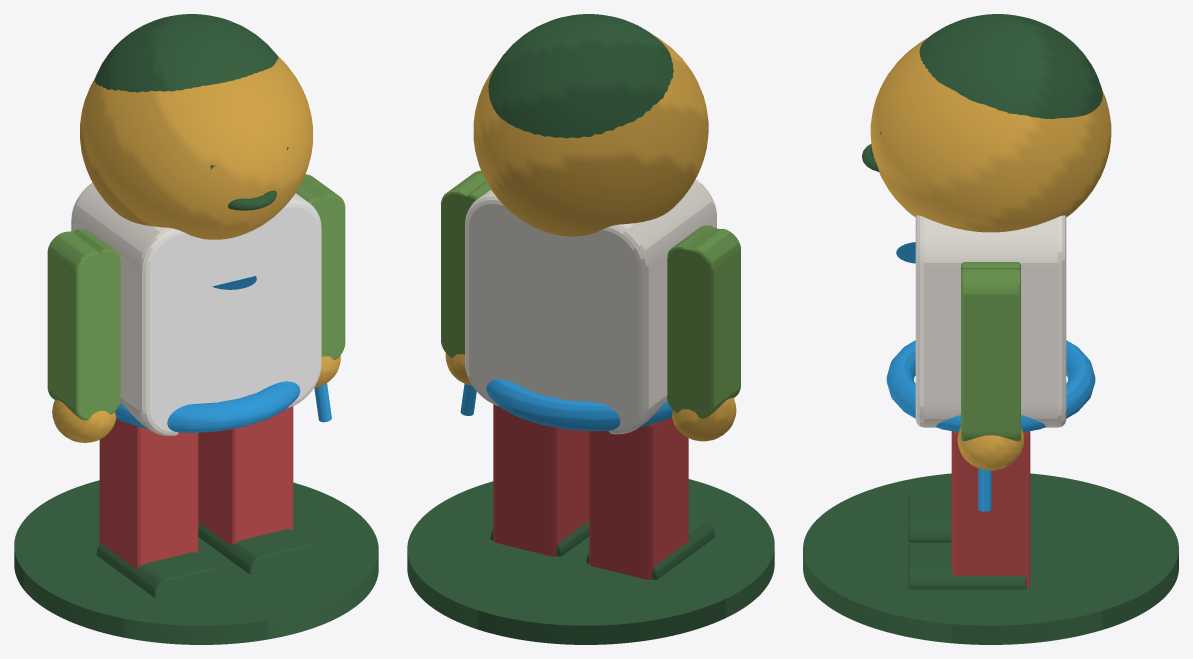
The model's file is 1331_中国古代寓言_欧阳修.glb.
3 renders of one model, left to right at view 1: azimuth 30°, elevation 25°; view 2: azimuth 150°, elevation 25°; view 3: azimuth 270°, elevation 25°, orthographic.
Visible parts, largest first — view 1: card_1331; view 2: card_1331; view 3: card_1331.
Boxes of the visible parts, <box> form: card_1331: <box>14,14,378,644</box>; card_1331: <box>407,14,774,644</box>; card_1331: <box>803,14,1178,644</box>.
Bounding box in the file's own units: 0.6074 × 1 × 0.6267.
